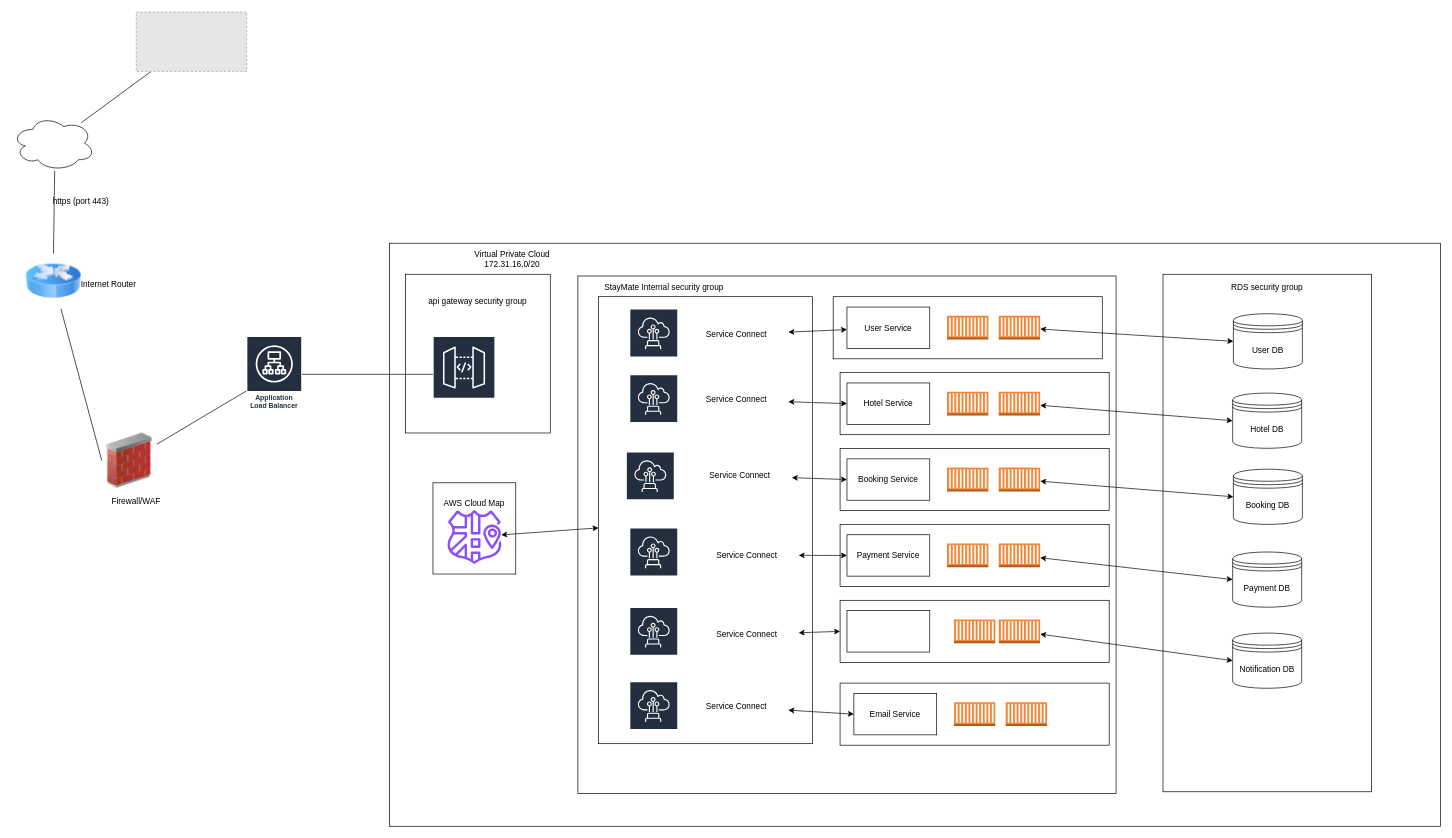
Some shapes in this 1452 by 838 pixel diagram are drawn without their labels. Grey dashed boxes stand in for pictures. The shapes that lost their labels are listed below. From the top down, each one's box as (x1, y1, x2, y2) in pixels, then its label:
(11, 115, 95, 171): Internet
(432, 336, 495, 412): API Gateway
(846, 610, 930, 652): Notification Service
